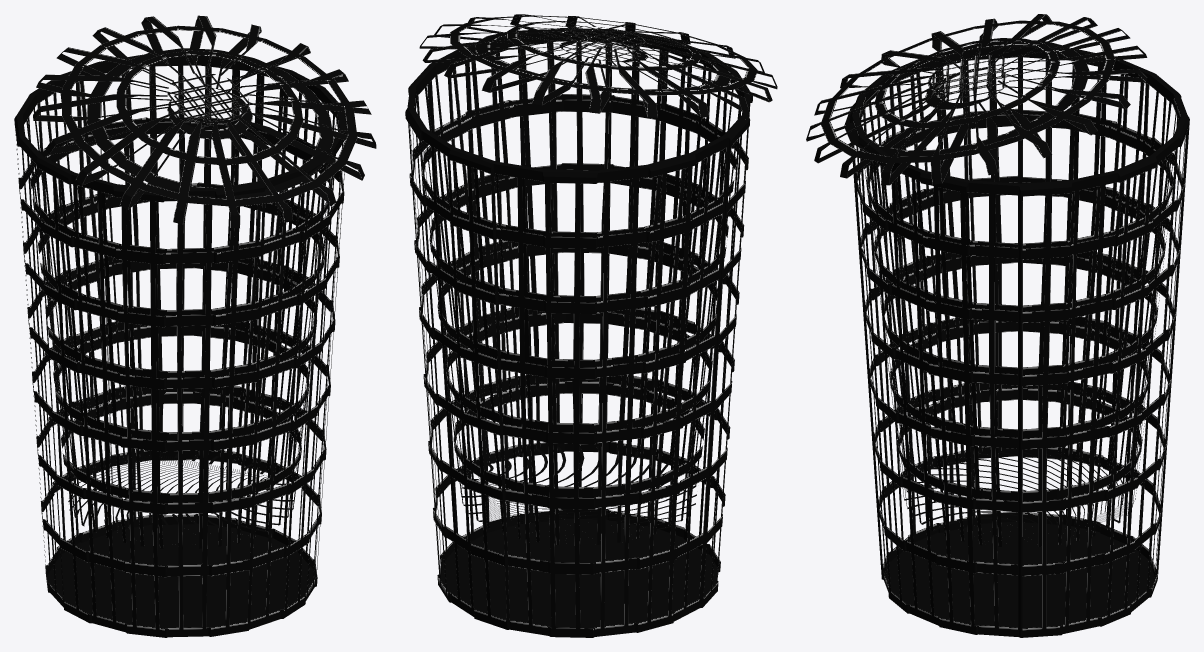
The model's file is Meshed bin.fbx.
3 renders of one model, left to right at view 1: azimuth 30°, elevation 25°; view 2: azimuth 150°, elevation 25°; view 3: azimuth 270°, elevation 25°, orthographic. The views are drawn at different scales.
Parts seen in each view (by area): view 1: pCylinder5, pCylinder4; view 2: pCylinder5, pCylinder4; view 3: pCylinder5, pCylinder4.
Part boxes in pixels (x1,y1,x2,y2): pCylinder5: (14,54,347,637); pCylinder4: (33,15,376,228); pCylinder5: (405,28,752,637); pCylinder4: (419,14,777,117); pCylinder5: (849,45,1189,637); pCylinder4: (806,14,1147,185).
Size of the model in its own units: 13.27 by 21.59 by 14.38.
Materials: 1 (1 with a texture image).
